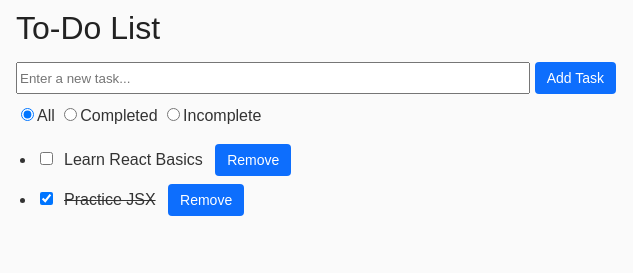
Test: TodoList Component › adds a new task
Type "New Task" into the field with placeholder "Enter a new task..." at x=273, y=78, box [16, 62, 530, 94]
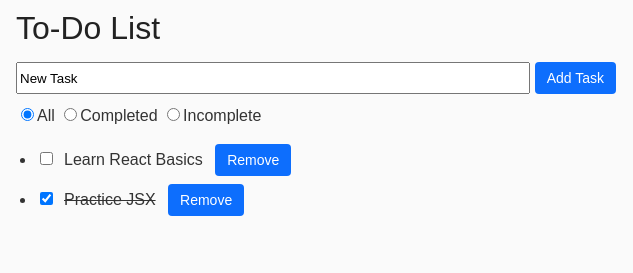
Click the button "Add Task" at x=575, y=78, box [535, 62, 616, 94]
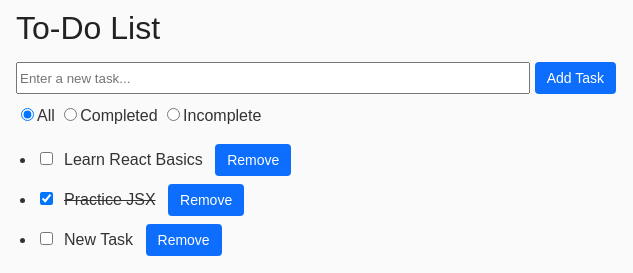
Expected: the text "New Task" is shown, [64, 231, 133, 248]
